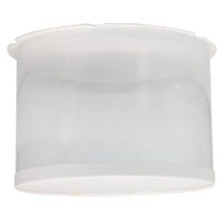plastic_box: (0, 17, 224, 205)
